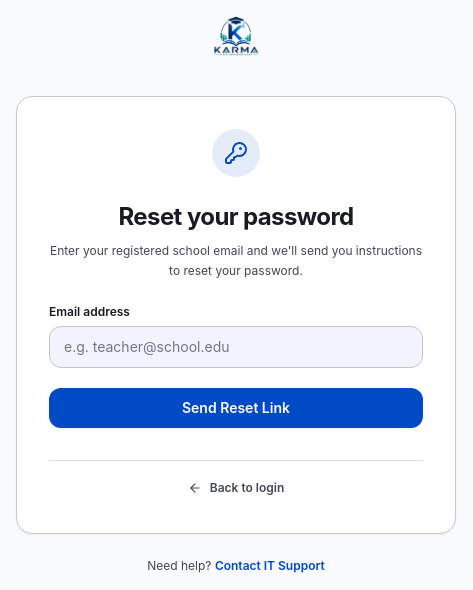
Secondary Auth & Onboarding Flows (Stitch Screens 08, 10, 06) › ForgotPasswordPage (Screen 08) › renders email input, handles submission and displays confirmation
Check: the heading "Reset your password" is shown, box [118, 202, 354, 231]
Check: the button "Send Reset Link" is shown, box [49, 388, 423, 428]
Type "teacher@school.edu" into the field with placeholder "e.g. teacher@school.edu".
click(236, 347); type("teacher@school.edu")  # box [49, 326, 423, 368]
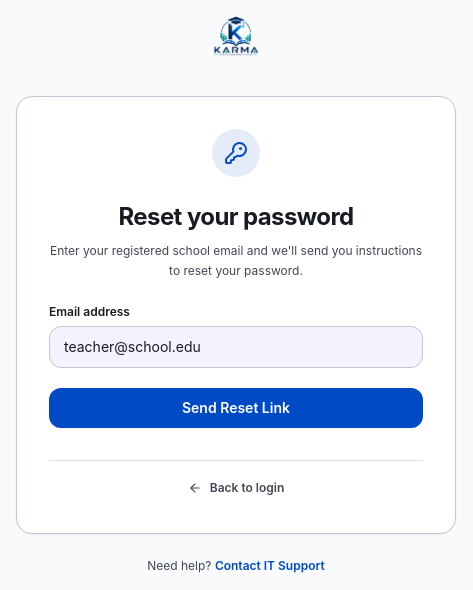
Click the button "Send Reset Link".
click(236, 408)  # box [49, 388, 423, 428]
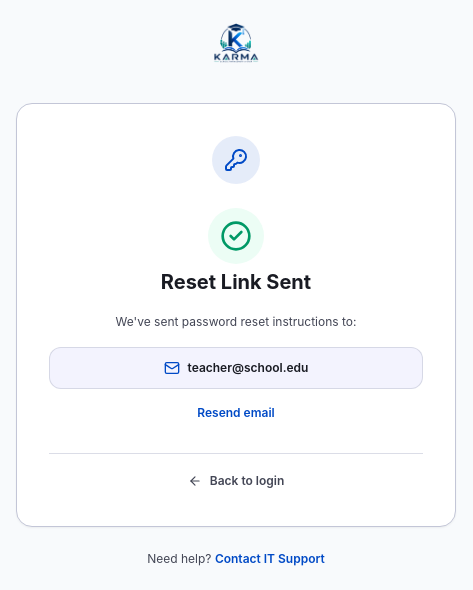
Check: the heading "Reset Link Sent" is shown, box [161, 270, 311, 294]
Check: the text "teacher@school.edu" is shown, box [188, 360, 308, 376]
